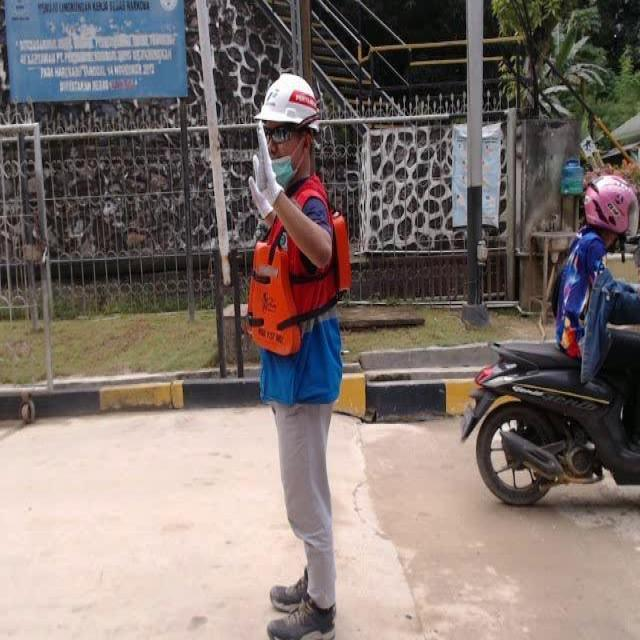boots: (263, 577, 349, 637)
gloves: (245, 125, 281, 214)
hard-hat: (263, 76, 321, 124)
person: (147, 82, 369, 640)
vest: (239, 181, 343, 351)
